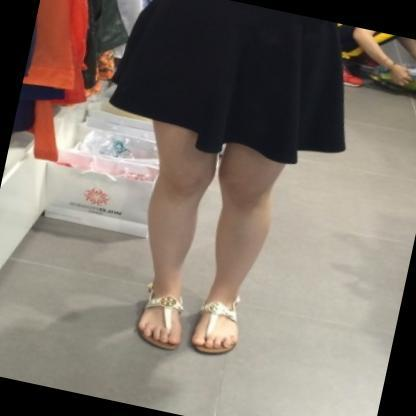no_safety-shoe: (181, 289, 246, 377), (119, 280, 186, 364)
